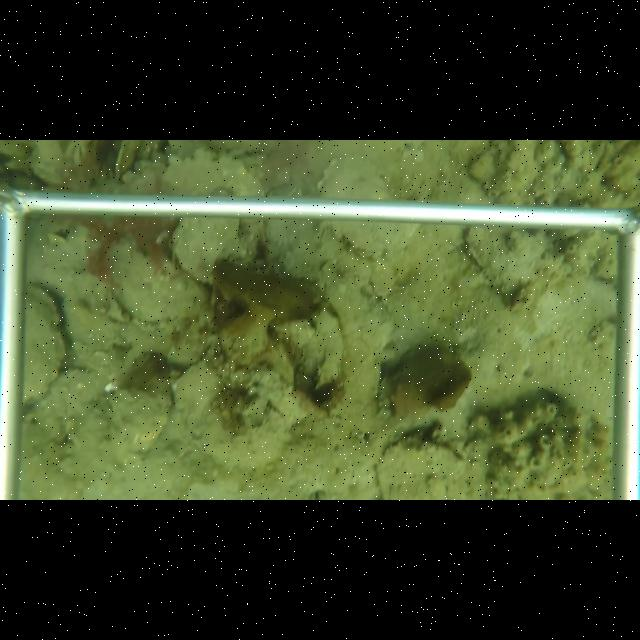Oyster-Closed: (96, 236, 208, 322), (463, 228, 556, 305), (374, 431, 472, 498), (169, 219, 256, 287), (315, 152, 429, 203), (23, 282, 67, 406), (108, 388, 171, 472), (318, 220, 421, 261)
